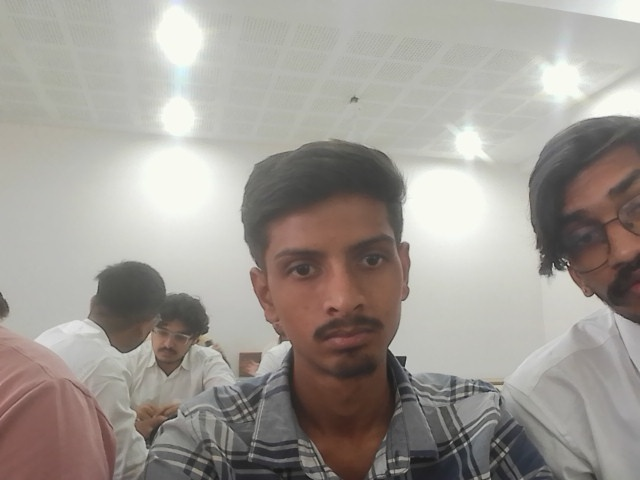light_off: (538, 193, 571, 271)
light_on: (551, 75, 635, 131), (151, 87, 203, 133), (443, 115, 493, 162), (615, 5, 636, 25)
person: (498, 111, 639, 479), (32, 258, 163, 478), (0, 262, 116, 478), (123, 292, 238, 469)
